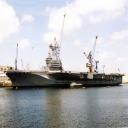Portanaves: (4, 47, 125, 91)
